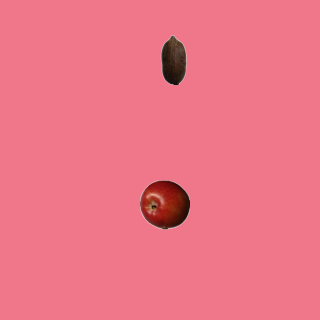Apple Braeburn: (139, 179, 189, 229)
Nut Pecan: (148, 34, 198, 84)
